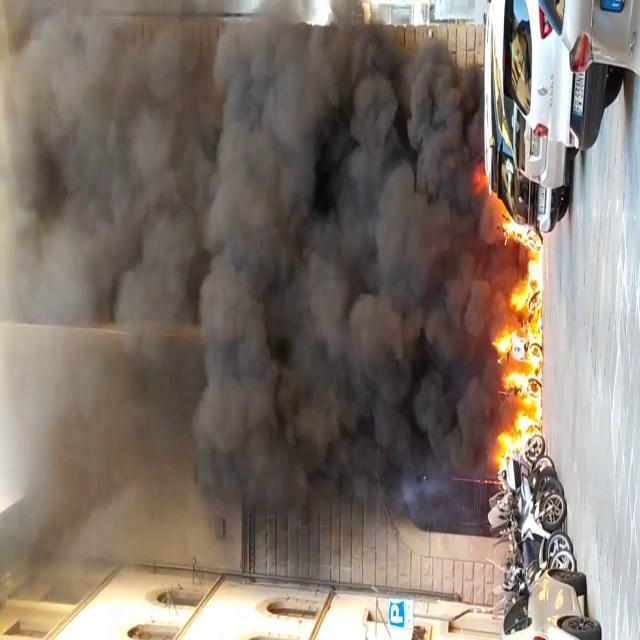Fire: (487, 204, 549, 476)
Smoke: (0, 0, 502, 539)
